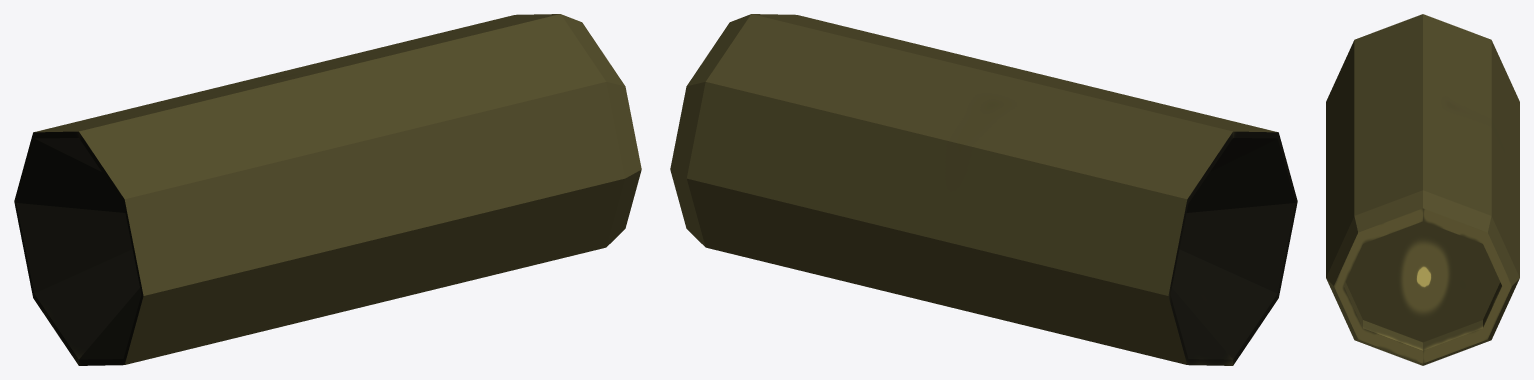
The model's file is Shell(AK).fbx.
The picture shows the model from 3 angles, left to right: view 1: azimuth 30°, elevation 25°; view 2: azimuth 150°, elevation 25°; view 3: azimuth 270°, elevation 25°; orthographic projection. The views are drawn at different scales.
Visible parts, largest first — view 1: Shell(AK).001; view 2: Shell(AK).001; view 3: Shell(AK).001.
Boxes of the visible parts, x1=… form: Shell(AK).001: x1=14, y1=14, x2=641, y2=365; Shell(AK).001: x1=670, y1=14, x2=1297, y2=365; Shell(AK).001: x1=1326, y1=14, x2=1519, y2=365.
Bounding box in the file's own units: 6.51 × 2.9 × 2.9.
1 material, 1 textured.
